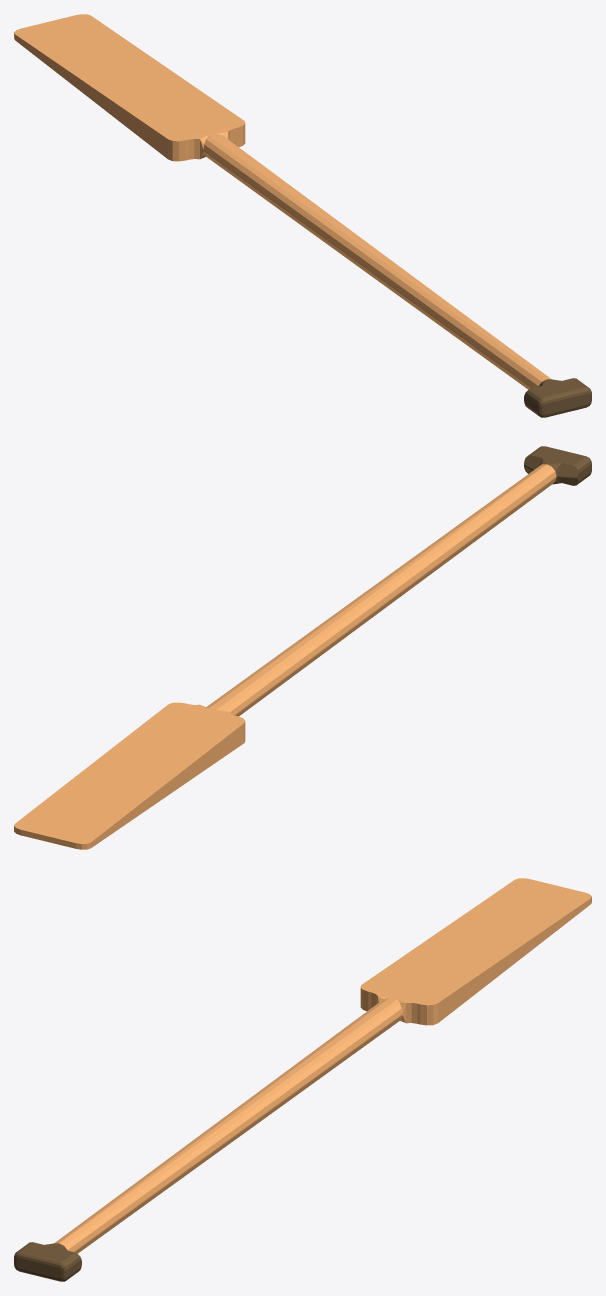
Rendered from Paddle.fbx.
3 renders of one model, top to bottom at view 1: azimuth 30°, elevation 25°; view 2: azimuth 150°, elevation 25°; view 3: azimuth 330°, elevation 25°, orthographic.
Parts seen in each view (by area): view 1: Paddle; view 2: Paddle; view 3: Paddle.
Boxes of the visible parts, left/top/right/bottom form: Paddle: left=14, top=14, right=591, bottom=417; Paddle: left=14, top=446, right=591, bottom=849; Paddle: left=14, top=878, right=591, bottom=1281.
Size of the model in its own units: 7.89 by 2 by 93.12.
